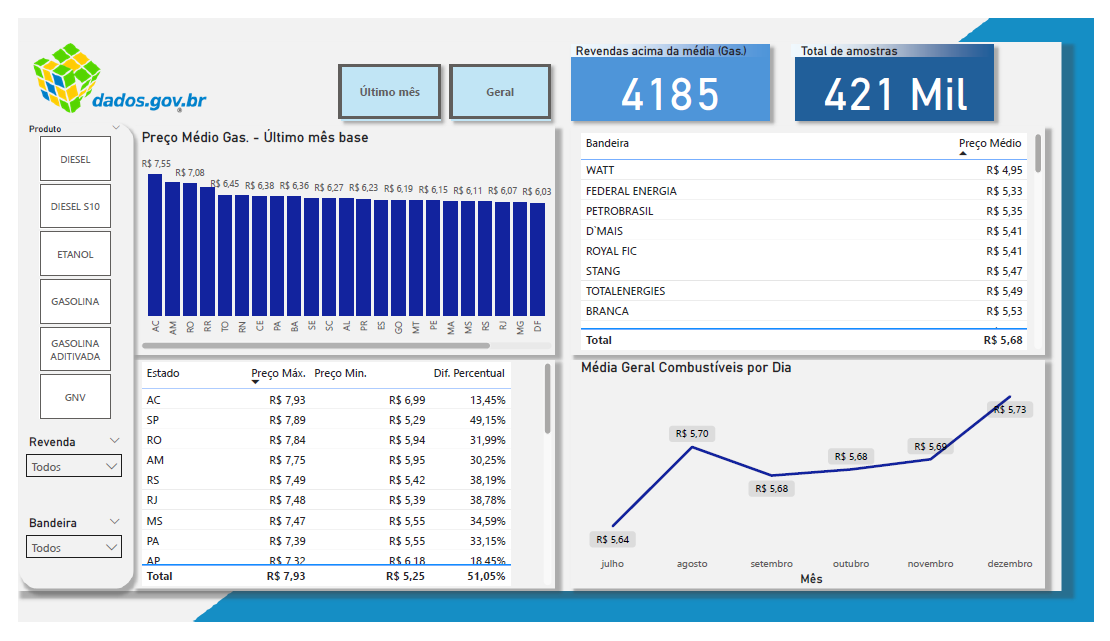

What the dashboard file says about the page in this screenshot:
{"tool":"powerbi","page":{"name":"Relatório de Combustíveis","canvas":[1280,720],"ordinal":0},"visuals":[{"type":"clusteredColumnChart","title":"Preço Médio Gas. - ÚItimo mês base","fields":{"Category":["dEstados.Estado - Sigla"],"Y":["Medidas.Preco Medio Gas"]},"box":[141.8,132,498.3,266.6],"z":0},{"type":"card","title":"Revendas acima da média (Gas.)","fields":{"Values":["Medidas.Revendas acima da Media"]},"box":[659,30.5,236.1,89.8],"z":1000},{"type":"tableEx","fields":{"Values":["dBandeiras.Bandeira","Medidas.Media Geral Combustiveis"]},"box":[665.2,132,558.4,266.6],"z":2000},{"type":"tableEx","fields":{"Values":["dEstados.Estado - Sigla","Max(fPrecos.Valor de Venda)","Min(fPrecos.Valor de Venda)1","Medidas.Dif Percent Diesel"]},"box":[141.8,404.9,498.3,274.7],"z":3000},{"type":"lineChart","title":"Média Geral Combustíveis por Dia","fields":{"Category":["fPrecos.Data da Coleta.Variation.Hierarquia de datas.Ano","fPrecos.Data da Coleta.Variation.Hierarquia de datas.Trimestre","fPrecos.Data da Coleta.Variation.Hierarquia de datas.Mês","fPrecos.Data da Coleta.Variation.Hierarquia de datas.Dia"],"Y":["Medidas.Media Geral Combustiveis"]},"box":[665.2,404.9,558.4,274.7],"z":4000},{"type":"slicer","fields":{"Values":["dProdutos.Produto"]},"box":[0,120.3,133.8,363.6],"z":5000},{"type":"card","title":"Total de amostras","fields":{"Values":["Medidas.Total Amostras"]},"box":[927.4,30.5,236.1,89.8],"z":6000},{"type":"slicer","fields":{"Values":["dRevenda.Revenda"]},"box":[0,491.1,133.8,97],"z":8000},{"type":"slicer","fields":{"Values":["dBandeiras.Bandeira"]},"box":[0,588,133.8,80.8],"z":9000},{"type":"actionButton","box":[382.4,54.8,120.3,65.5],"z":10000},{"type":"actionButton","box":[513.5,54.8,120.3,65.5],"z":11000}]}

Visuals, with their boxes in screenshot pixels (x1, y1, x2, y2), scaled from the page's 1280x720 canvas onto the 1110x641 screenshot:
"Preço Médio Gas. - ÚItimo mês base" clusteredColumnChart: [123, 118, 555, 355]
"Revendas acima da média (Gas.)" card: [571, 27, 776, 107]
tableEx - dBandeiras.Bandeira x Medidas.Media Geral Combustiveis: [577, 118, 1061, 355]
tableEx - dEstados.Estado - Sigla x Max(fPrecos.Valor de Venda): [123, 360, 555, 605]
"Média Geral Combustíveis por Dia" lineChart: [577, 360, 1061, 605]
slicer - dProdutos.Produto: [0, 107, 116, 431]
"Total de amostras" card: [804, 27, 1009, 107]
slicer - dRevenda.Revenda: [0, 437, 116, 524]
slicer - dBandeiras.Bandeira: [0, 523, 116, 595]
actionButton: [332, 49, 436, 107]
actionButton: [445, 49, 550, 107]
